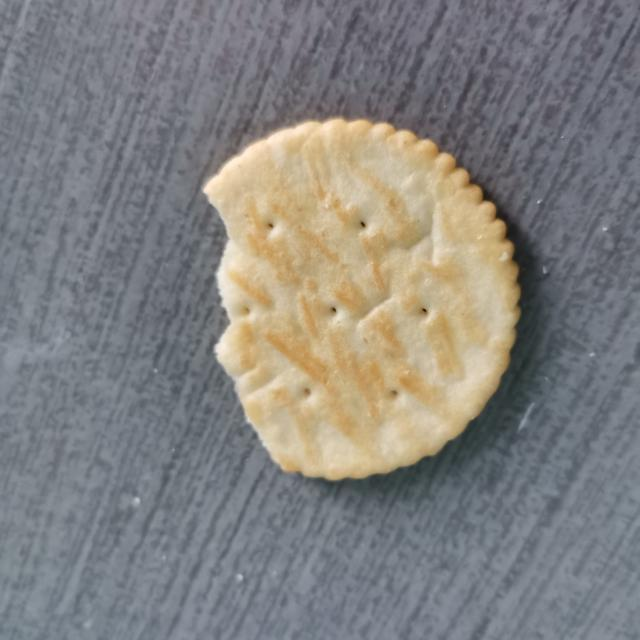Broken: (201, 116, 523, 482)
